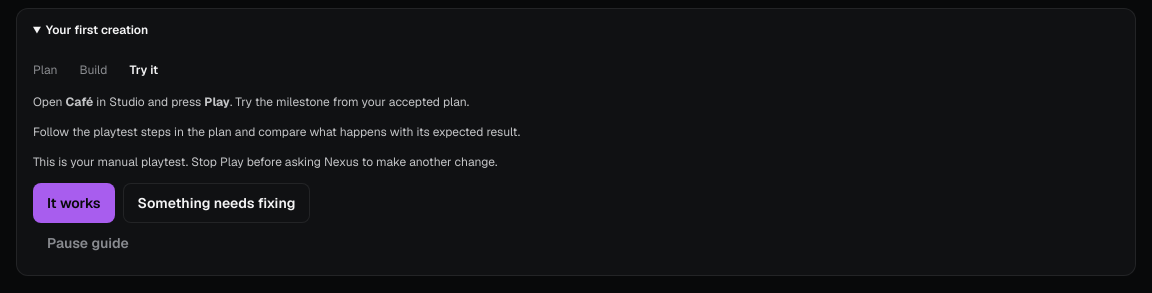
Test: acknowledged writes unlock manual confirmation and keep the conversation
The width and height of the screenshot is (1152, 293).
Click the button "It works": (74, 203) [33, 183, 114, 223]
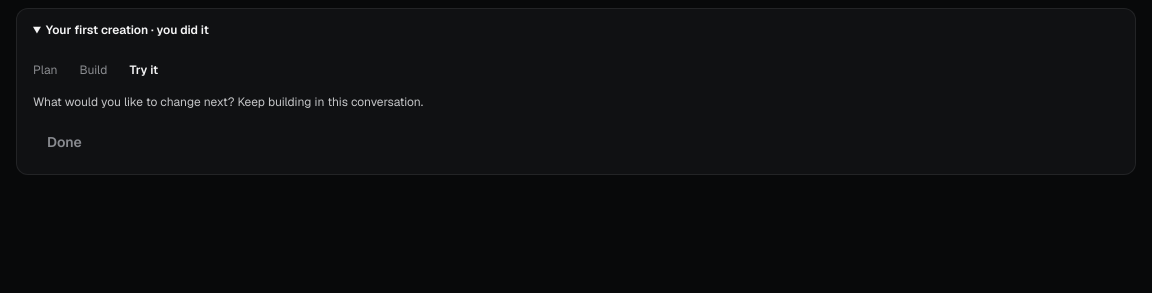
Now the text "What would you like to change next" is shown, box [33, 94, 423, 110]
